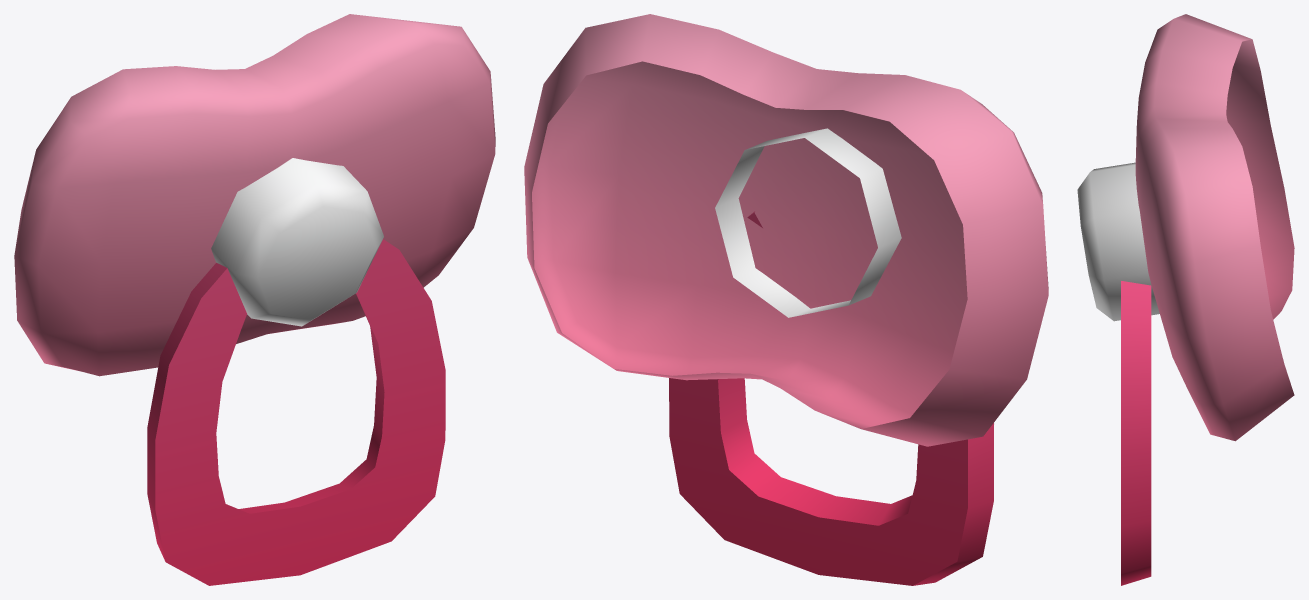
The model's file is Pacifier_001.glb.
The picture shows the model from 3 angles, left to right: view 1: azimuth 30°, elevation 25°; view 2: azimuth 150°, elevation 25°; view 3: azimuth 270°, elevation 25°; orthographic projection. The views are drawn at different scales.
Visible parts, largest first — view 1: Pacifier_001; view 2: Pacifier_001; view 3: Pacifier_001.
Part boxes in pixels (x1=…): Pacifier_001: x1=14, y1=14, x2=495, y2=585; Pacifier_001: x1=524, y1=14, x2=1048, y2=585; Pacifier_001: x1=1077, y1=14, x2=1294, y2=585.
Bounding box in the file's own units: 0.1648 × 0.1625 × 0.068.
Materials: 1 (1 with a texture image).
